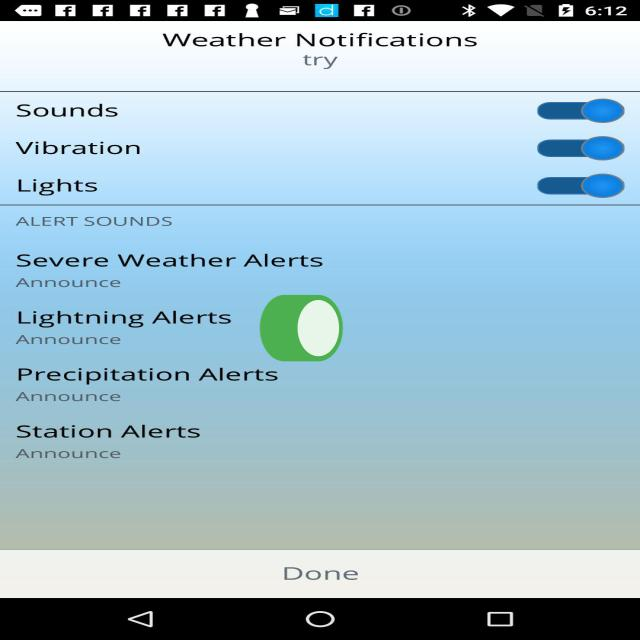social proof: (256, 269, 347, 392)
